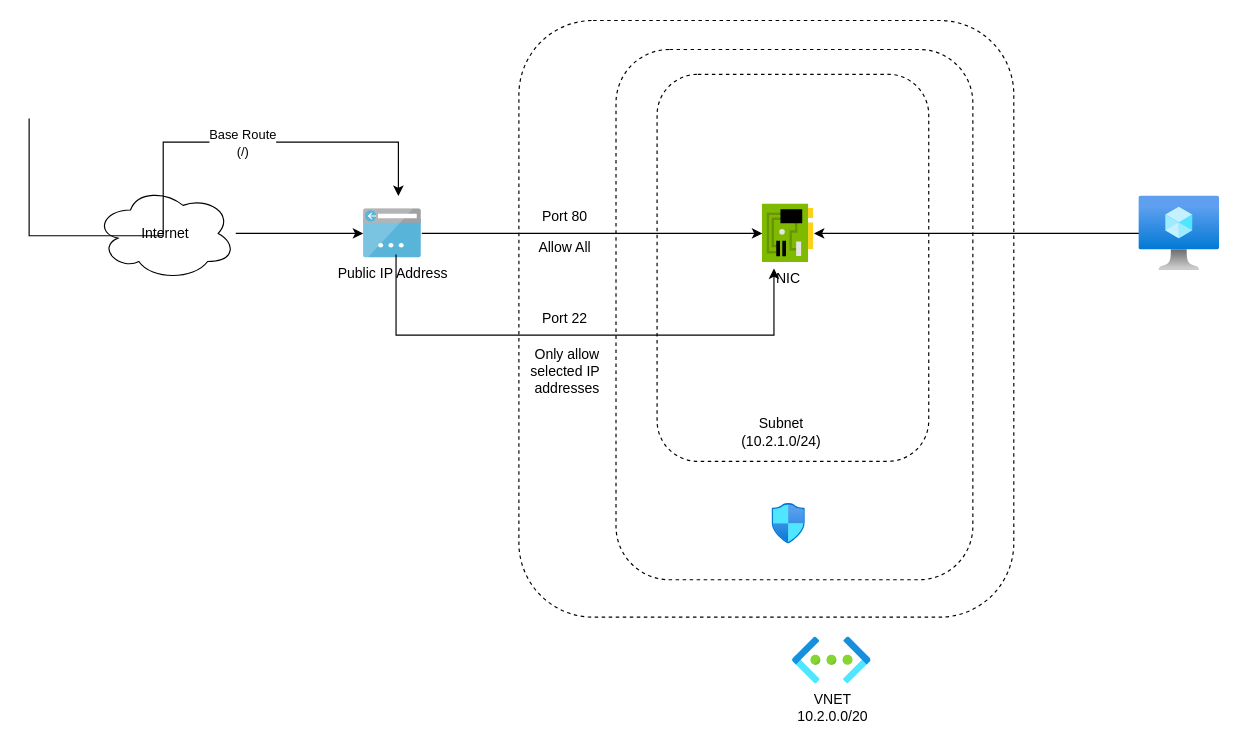
Image size: 1240x746. Some labels were removed from this diagram. The centre of each missing label's shape, as x and y in pixels:
"Network Security Group" belongs at (788,523).
"VM" belongs at (1178,232).
